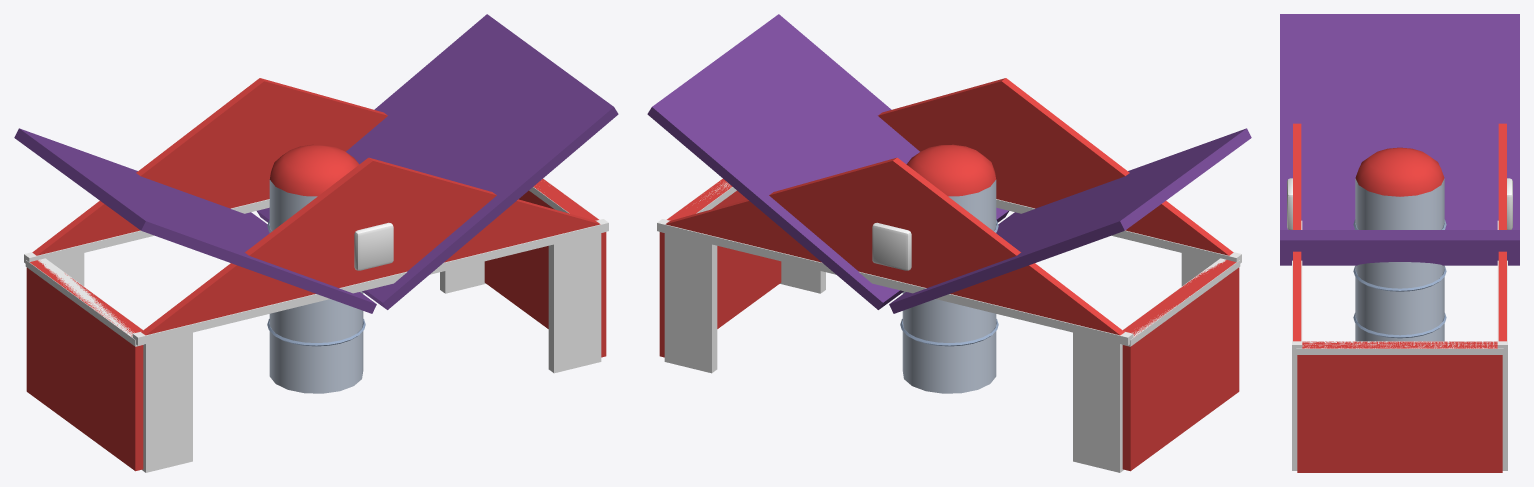
File: pumpkin.glb
3 views of the same model, side by side, from view 1: azimuth 30°, elevation 25°; view 2: azimuth 150°, elevation 25°; view 3: azimuth 270°, elevation 25° (orthographic). The views are drawn at different scales.
Parts seen in each view (by area): view 1: barn, silo; view 2: barn, silo; view 3: barn, silo.
Boxes of the visible parts, x1=… form: barn: x1=14, y1=14, x2=618, y2=472; silo: x1=267, y1=144, x2=365, y2=393; barn: x1=647, y1=14, x2=1251, y2=472; silo: x1=900, y1=144, x2=998, y2=393; barn: x1=1280, y1=14, x2=1519, y2=472; silo: x1=1353, y1=147, x2=1446, y2=341.
Size of the model in its own units: 30.42 by 15.96 by 14.
